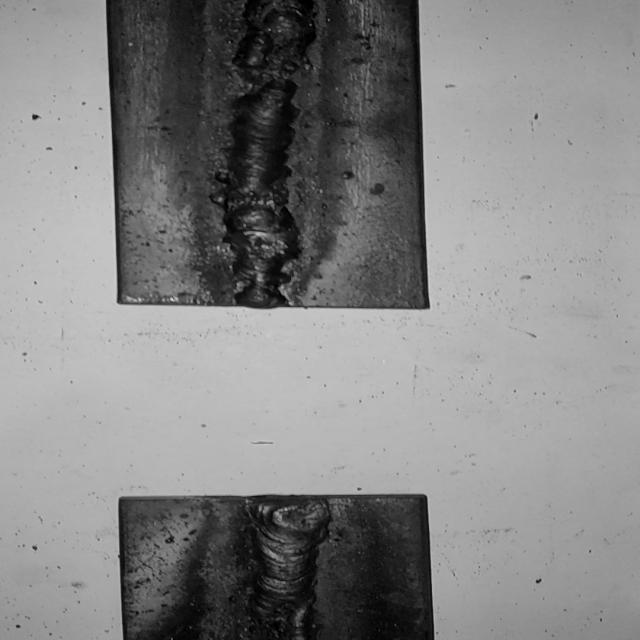Defect: (215, 0, 316, 107), (200, 187, 319, 261)
Welding Line: (224, 0, 314, 302), (251, 499, 325, 640)
Workpiece: (100, 0, 440, 311), (110, 486, 441, 640)
